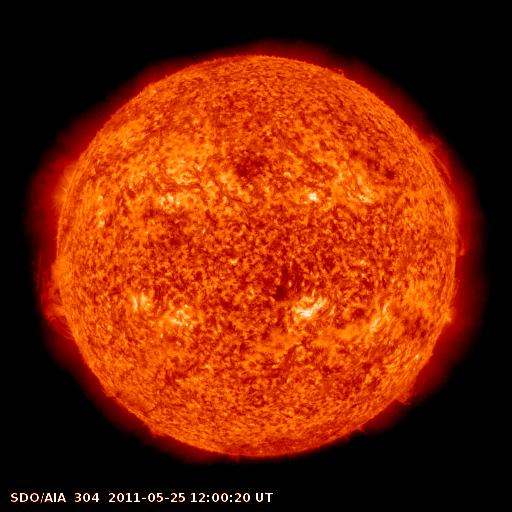prominence: (415, 125, 477, 260), (26, 246, 86, 350), (385, 370, 427, 413)
